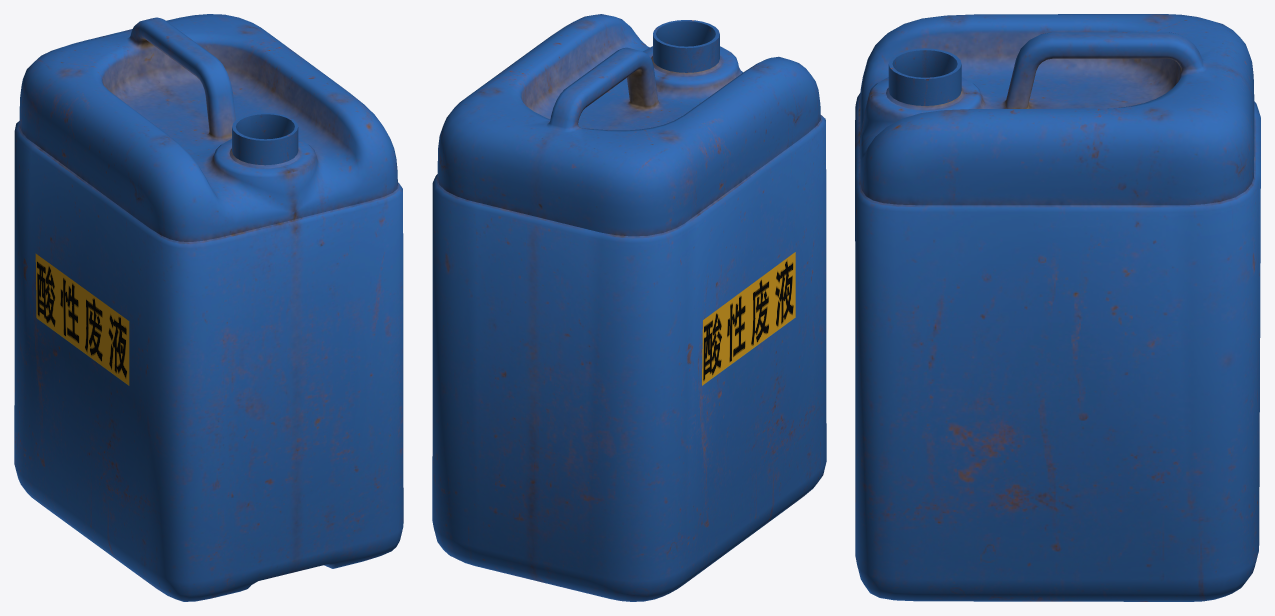
Rendered from SM_酸性废液桶_001.fbx.
3 renders of one model, left to right at view 1: azimuth 30°, elevation 25°; view 2: azimuth 150°, elevation 25°; view 3: azimuth 270°, elevation 25°, orthographic. The views are drawn at different scales.
Visible parts, largest first — view 1: SM_酸性废液桶_001; view 2: SM_酸性废液桶_001; view 3: SM_酸性废液桶_001.
Part boxes in pixels (<box>): SM_酸性废液桶_001: <box>14,14,403,601</box>; SM_酸性废液桶_001: <box>432,14,826,601</box>; SM_酸性废液桶_001: <box>855,14,1260,601</box>.
Bounding box in the file's own units: 0.3141 × 0.5712 × 0.4078.
